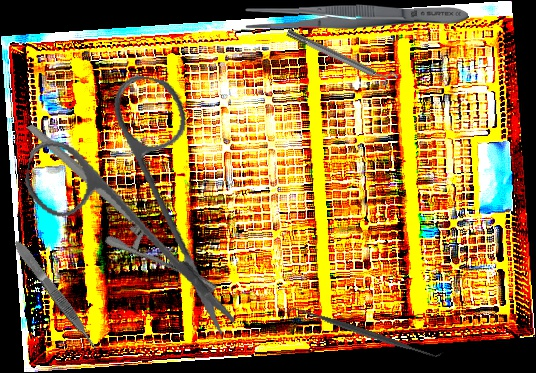Dressing Forceps: (244, 0, 469, 34)
Fixation Ring: (283, 22, 400, 93)
Iris Scissors: (3, 58, 277, 336)
Needle Holder: (26, 82, 221, 334)
Spatula Surgical: (283, 297, 445, 368)
Tissue Forceps: (11, 237, 101, 354)
